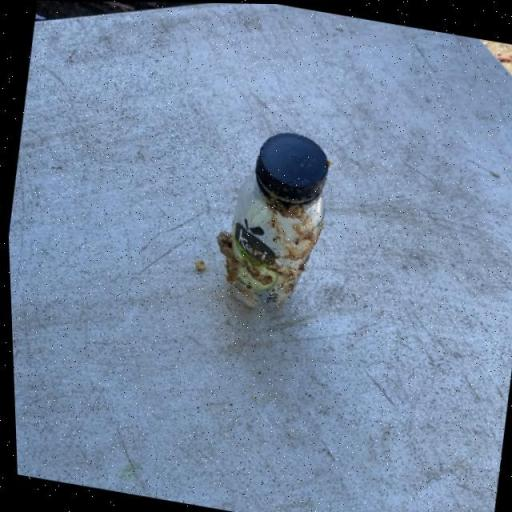plastic: (200, 120, 339, 320)
